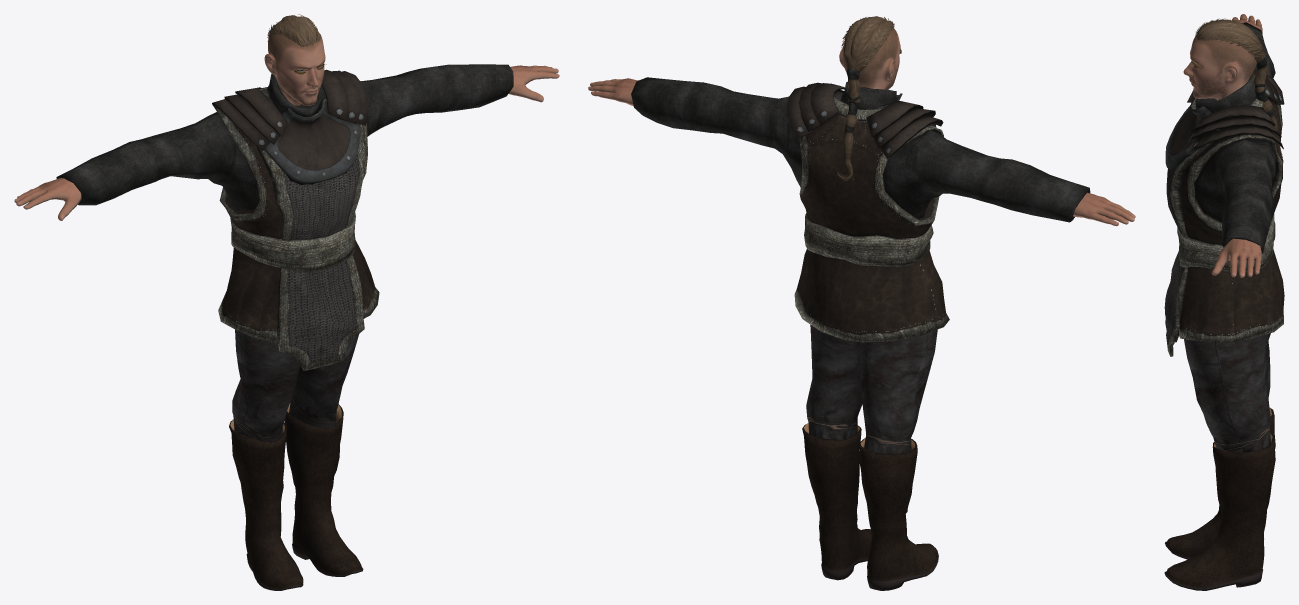
Rendered from Character.obj.
The picture shows the model from 3 angles, left to right: view 1: azimuth 30°, elevation 25°; view 2: azimuth 150°, elevation 25°; view 3: azimuth 270°, elevation 25°; orthographic projection.
Visible parts, largest first — view 1: Tops, Shoes, Bottoms, Body, Hair; view 2: Tops, Shoes, Bottoms, Body, Hair; view 3: Tops, Shoes, Bottoms, Body, Hair.
Part boxes in pixels (x1,y1,x2,y2): Tops: (56, 64, 513, 370); Shoes: (229, 403, 363, 590); Bottoms: (232, 329, 358, 441); Body: (14, 28, 559, 220); Hair: (267, 14, 320, 46); Tops: (631, 77, 1090, 342); Shoes: (802, 423, 938, 590); Bottoms: (806, 324, 937, 454); Body: (588, 28, 1135, 226); Hair: (837, 16, 894, 180); Tops: (1164, 22, 1284, 356); Shoes: (1164, 407, 1275, 590); Bottoms: (1184, 333, 1270, 452); Body: (1183, 14, 1262, 277); Hair: (1195, 18, 1282, 157).
Bounding box in the file's own units: 194 × 188 × 37.3.
Materials: 5 (5 with a texture image).
